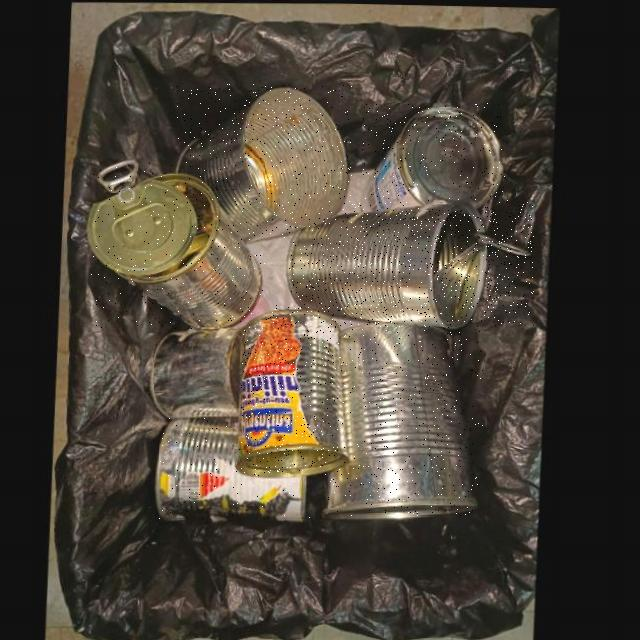metal: (289, 199, 534, 327), (328, 320, 484, 516), (89, 159, 265, 329), (176, 85, 352, 243), (241, 306, 355, 476), (160, 415, 313, 519), (363, 104, 505, 210), (155, 327, 247, 417)
